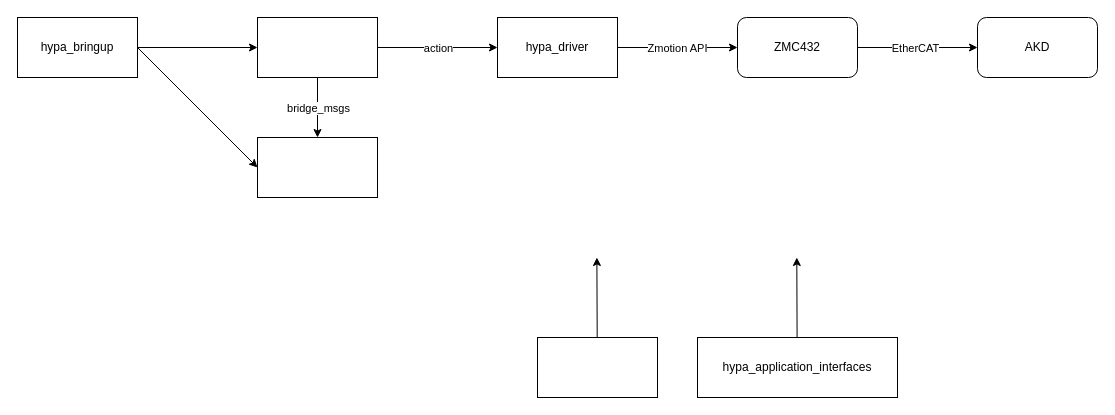
Some shapes in this 1115 by 415 pixel diagram are drawn without their labels. The centre of each missing label's shape, as x and y in pixels:
"hypa_application" belongs at (x=317, y=47).
"hypa_description" belongs at (x=597, y=367).
"hypa_gazebo" belongs at (x=317, y=167).
